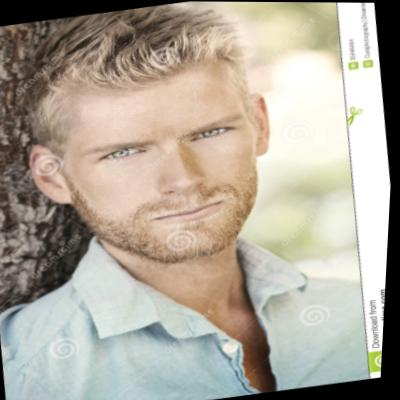netural: (48, 57, 277, 277)
